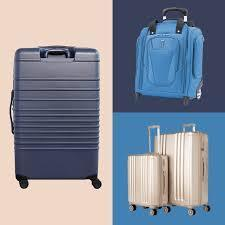suitcase: (8, 43, 101, 184), (132, 16, 206, 102), (153, 130, 211, 210), (125, 150, 173, 209)
